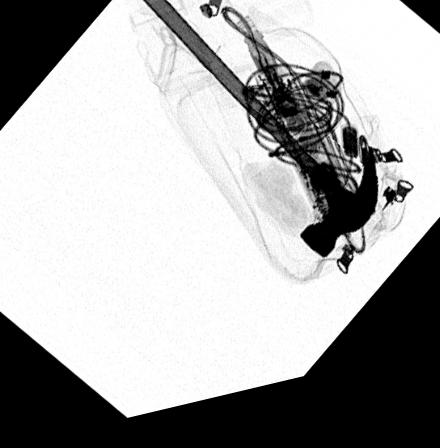Hammer: (137, 0, 379, 273)
